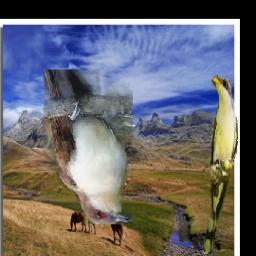Cuckoo: (44, 69, 133, 224), (204, 75, 238, 255)
